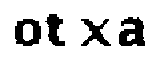a: (120, 16, 149, 50)
o: (12, 18, 42, 47)
t: (46, 13, 70, 49)
x: (77, 16, 112, 49)
